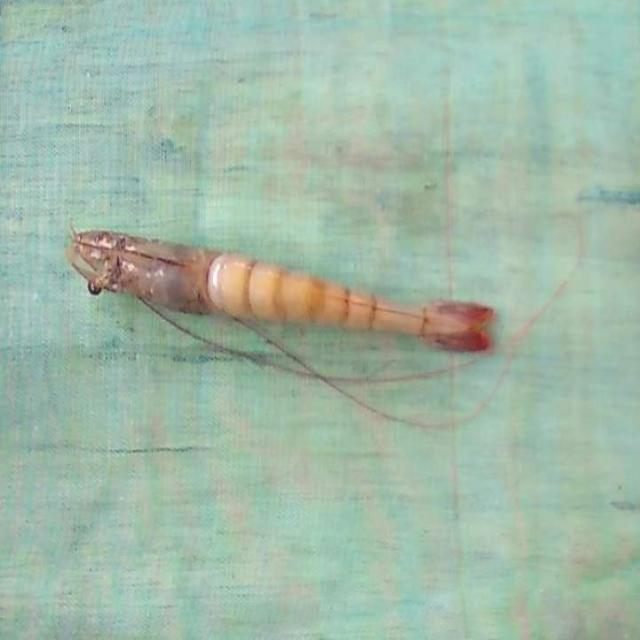shrimp: (67, 231, 495, 351)
